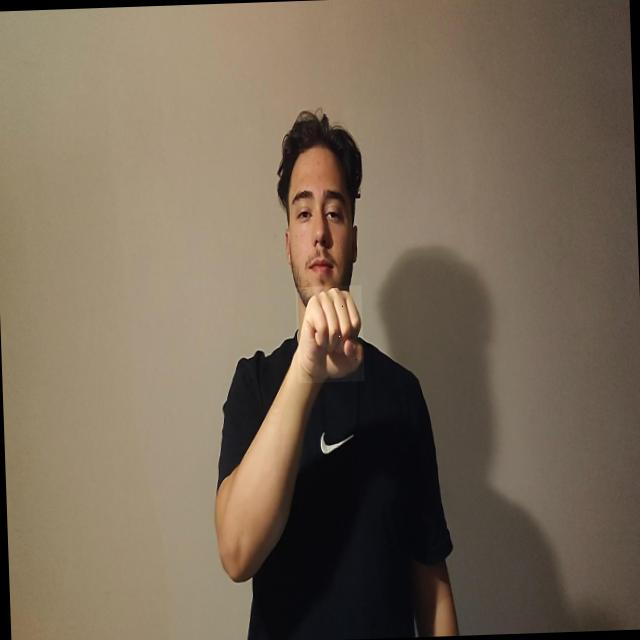yes: (295, 284, 364, 382)
